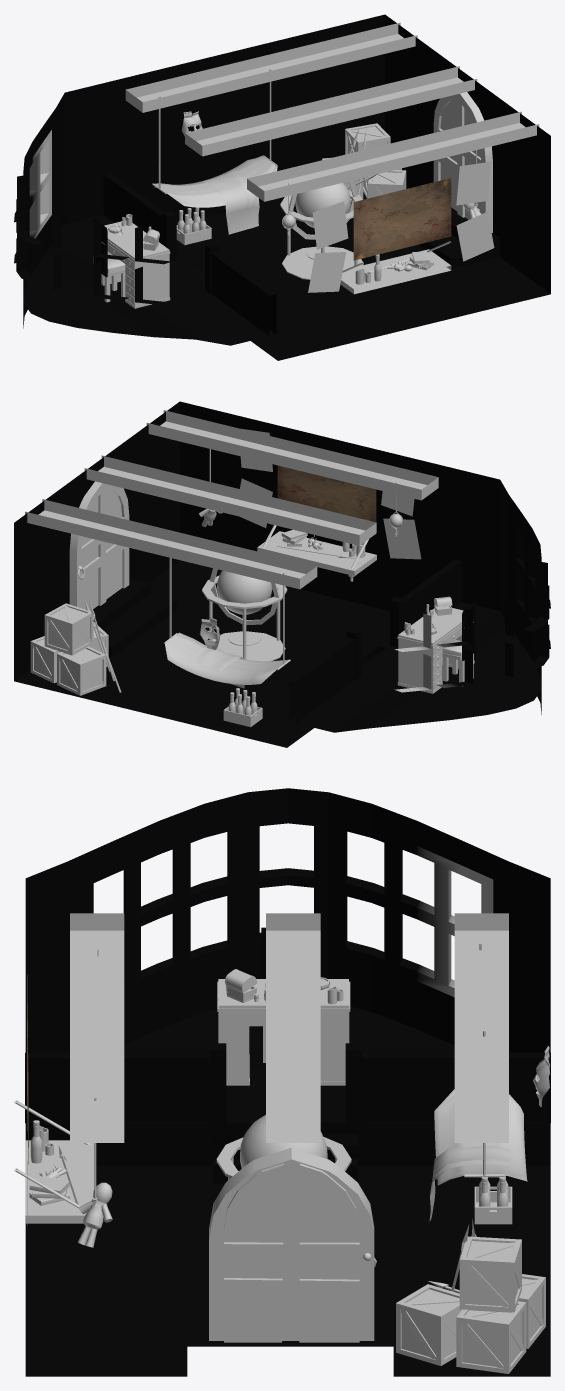
Rendered from Full - changed centre.fbx.
The picture shows the model from 3 angles, top to bottom: view 1: azimuth 30°, elevation 25°; view 2: azimuth 150°, elevation 25°; view 3: azimuth 270°, elevation 25°; orthographic projection. The views are drawn at different scales.
Parts seen in each view (by area): view 1: Room, Drawing large, Door, Box001, Cloth, Globe stand, Knot, Blanket, Drawing small, Drawing small4, globe, Drawing small2 (+5 smaller); view 2: Room, Door, Drawing large, Globe stand, Box001, Cloth, Knot, Crate003, Crate002, globe, Drawing small3, Chair (+5 smaller); view 3: Room, Door, Box001, Crate003, Knot, Crate001, Crate, Cloth, Blanket, globe, doll, Crate002 (+3 smaller).
Part boxes in pixels (x1,y1,x2,y2): Room: (14,14,550,360); Drawing large: (353,178,451,260); Door: (433,92,492,232); Box001: (93,220,170,308); Cloth: (152,69,277,207); Globe stand: (280,180,363,279); Knot: (340,241,451,294); Blanket: (203,170,259,234); Drawing small: (456,161,491,205); Drawing small4: (312,201,348,249); globe: (295,183,350,227); Drawing small2: (456,212,494,261); Room: (14,401,550,747); Door: (69,481,129,610); Drawing large: (277,465,376,522); Globe stand: (202,568,287,661); Box001: (397,608,474,693); Cloth: (164,546,290,684); Knot: (257,525,376,581); Crate003: (44,603,93,655); Crate002: (57,646,106,695); globe: (217,570,272,614); Drawing small3: (383,518,421,559); Chair: (442,602,476,686); Room: (25,788,550,1376); Door: (209,1147,376,1342); Box001: (217,979,350,1085); Crate003: (459,1236,521,1312); Knot: (14,1100,94,1223); Crate001: (396,1284,461,1365); Crate: (456,1301,526,1373); Cloth: (434,943,527,1185); Blanket: (429,1146,510,1223); globe: (240,1115,327,1168); doll: (78,1098,112,1247); Crate002: (518,1274,545,1348).
Size of the model in its own units: 296 by 101 by 191.
